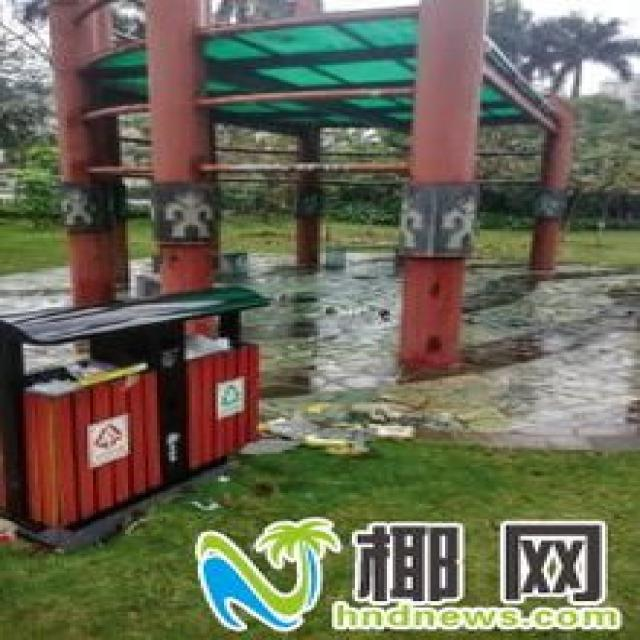overflow: (0, 283, 268, 554)
